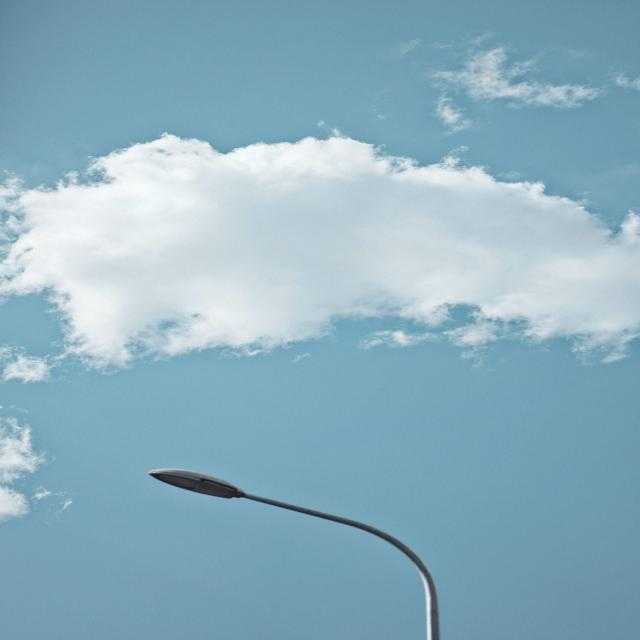Street Light: (144, 468, 441, 640)
